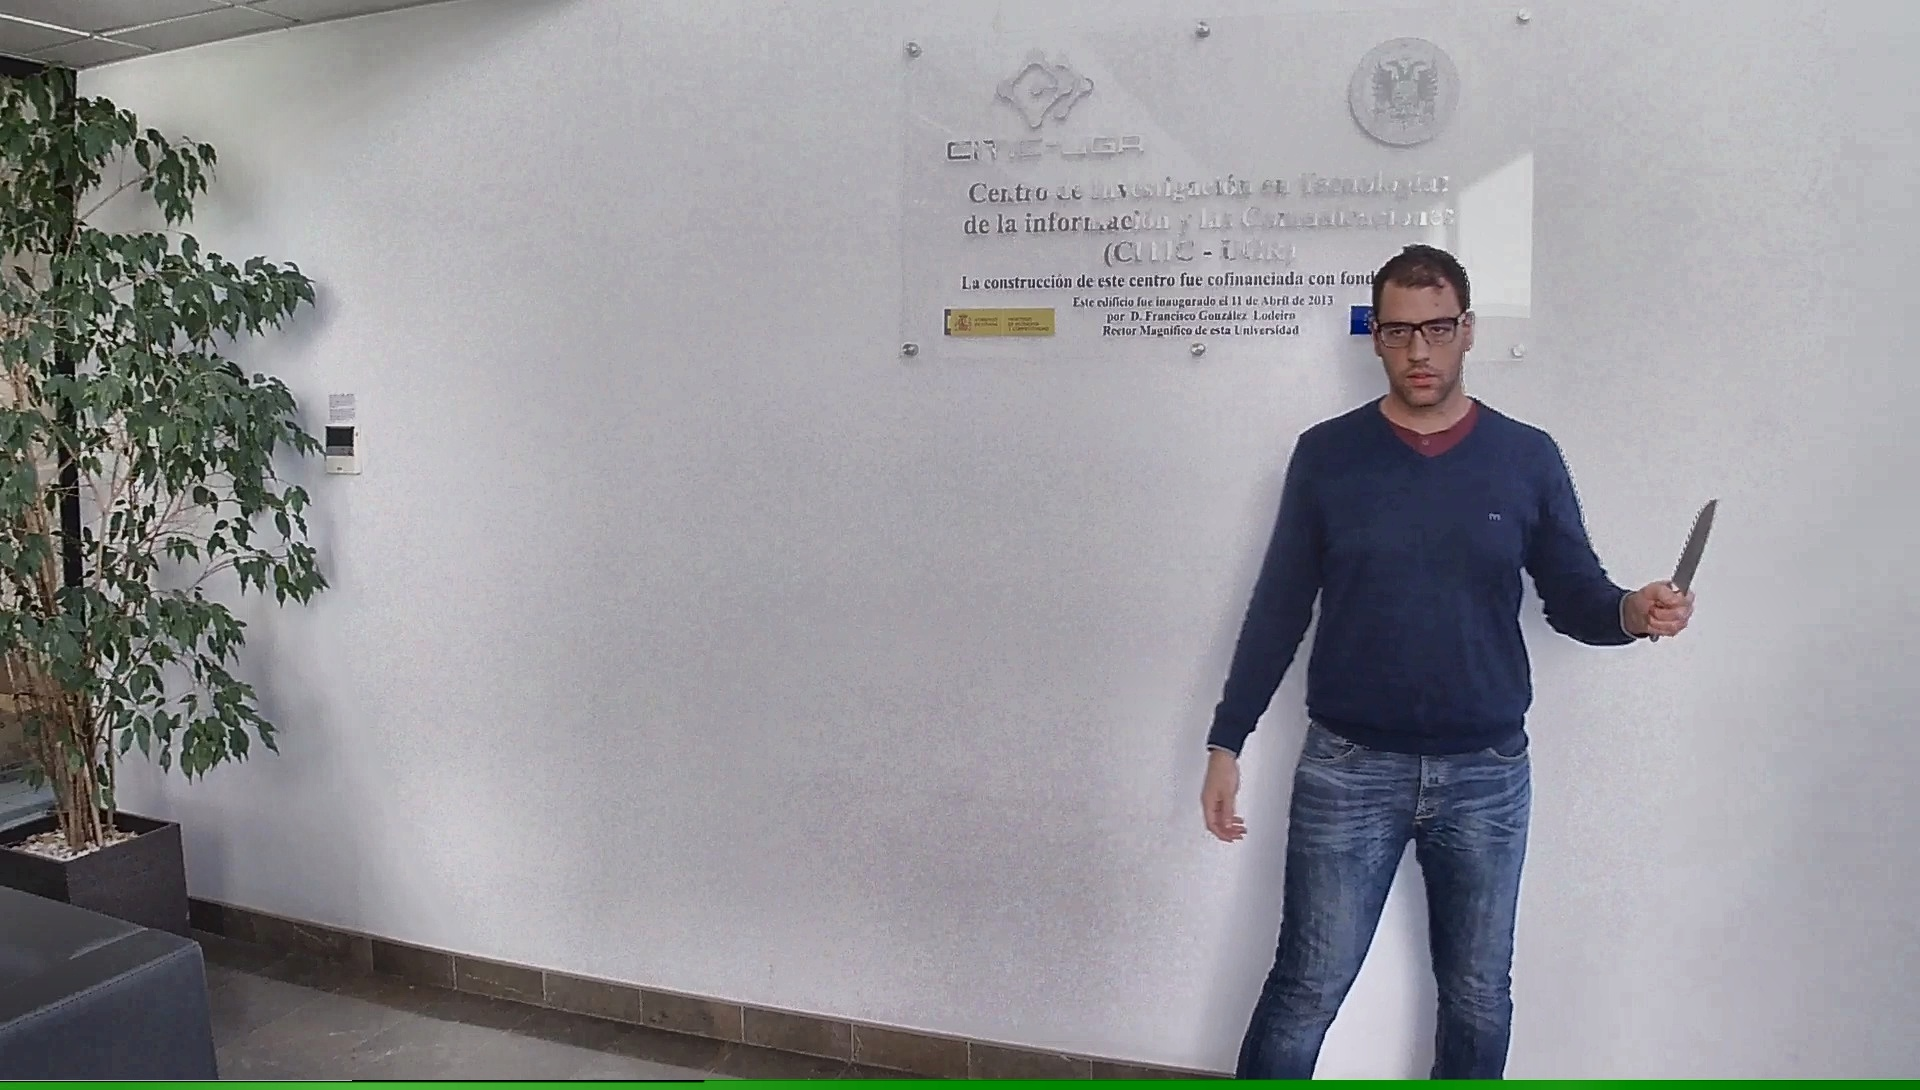knife: (1647, 490, 1727, 648)
